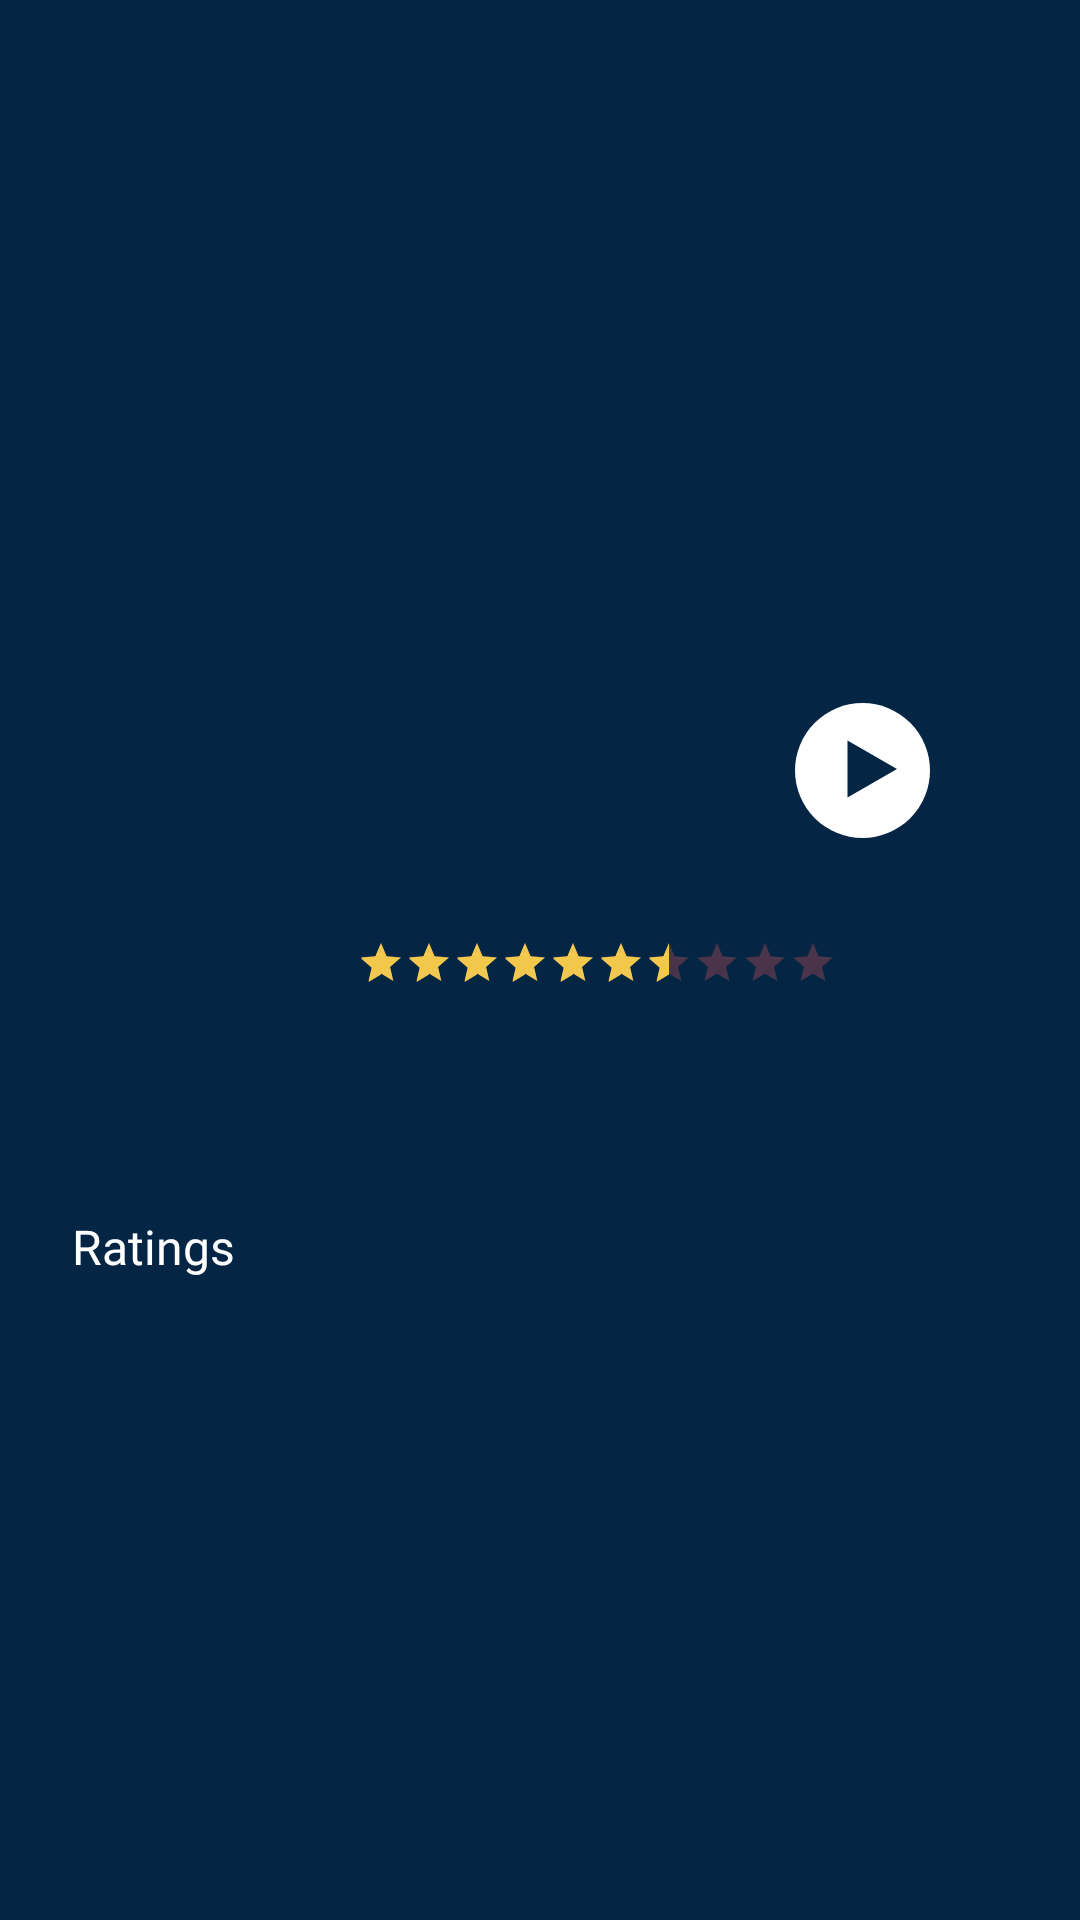

Icons on this 1080w x 1920h Android screen, each with the point to tap as [x,y]:
image to play trailer: [862,770]
